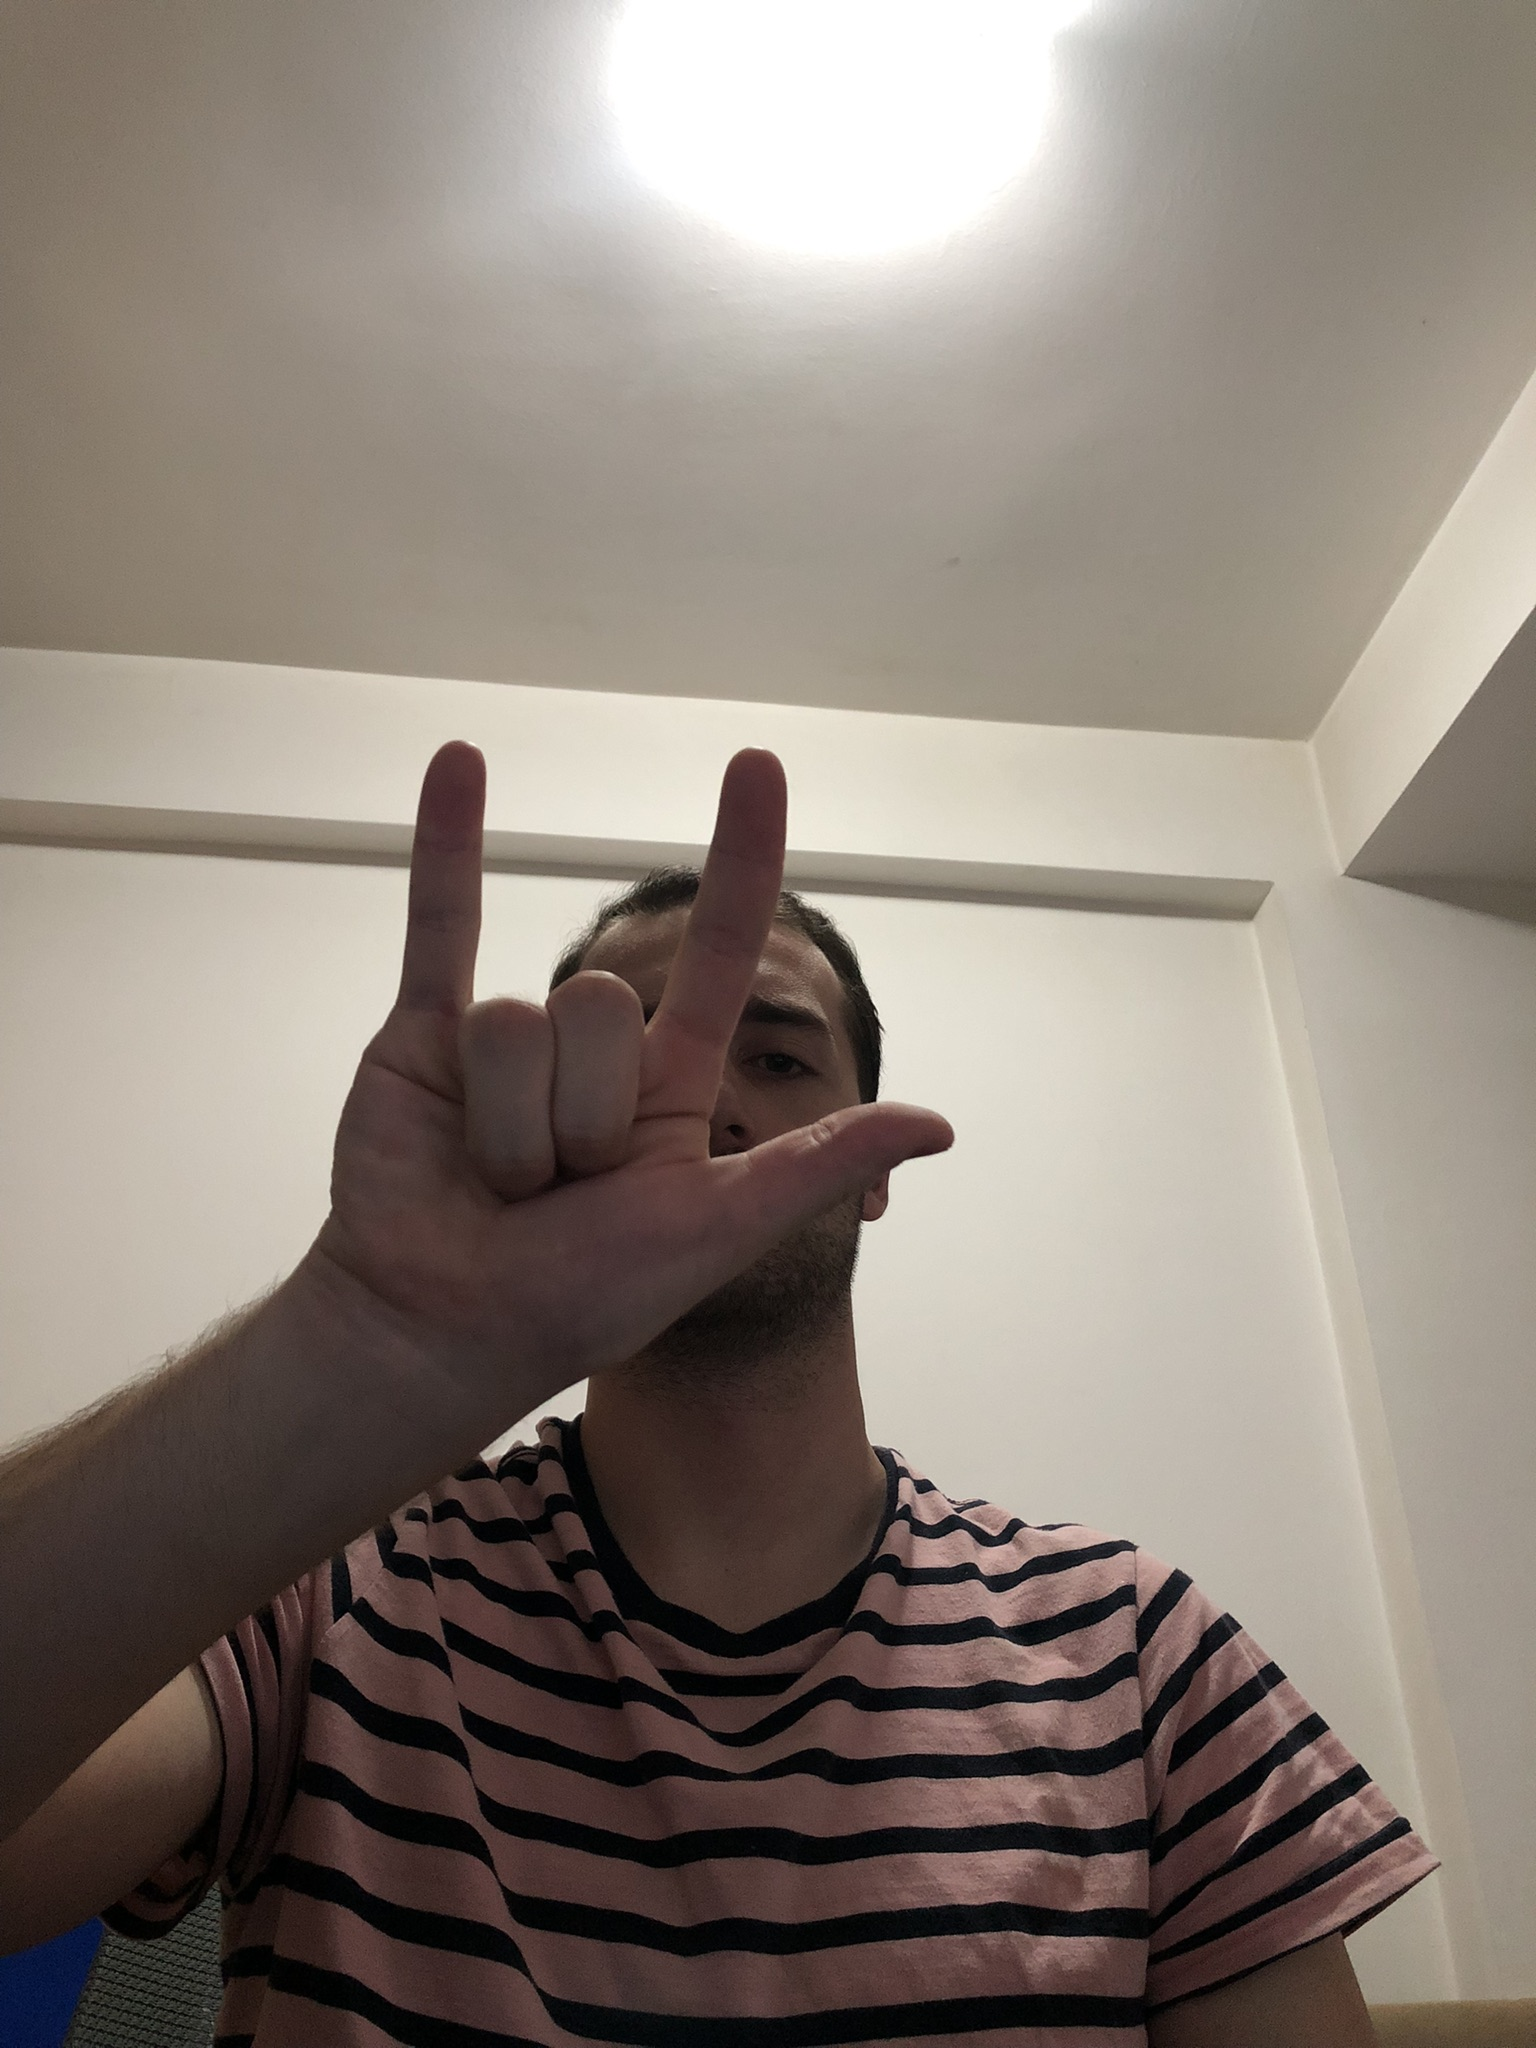I Love You: (300, 727, 962, 1430)
